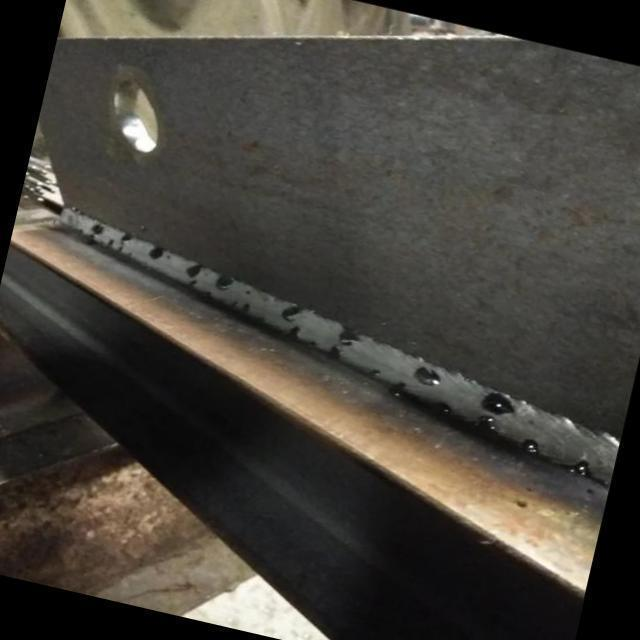defect: (472, 390, 519, 436), (335, 323, 367, 351), (407, 366, 443, 389), (104, 231, 134, 257), (518, 435, 546, 457), (183, 262, 205, 287), (145, 244, 174, 261), (277, 303, 302, 322), (385, 381, 406, 399), (210, 275, 236, 289), (89, 222, 106, 240), (434, 401, 452, 418), (286, 325, 303, 342), (228, 300, 250, 311), (326, 344, 342, 359), (366, 367, 382, 377), (307, 338, 316, 347), (244, 288, 253, 297)
